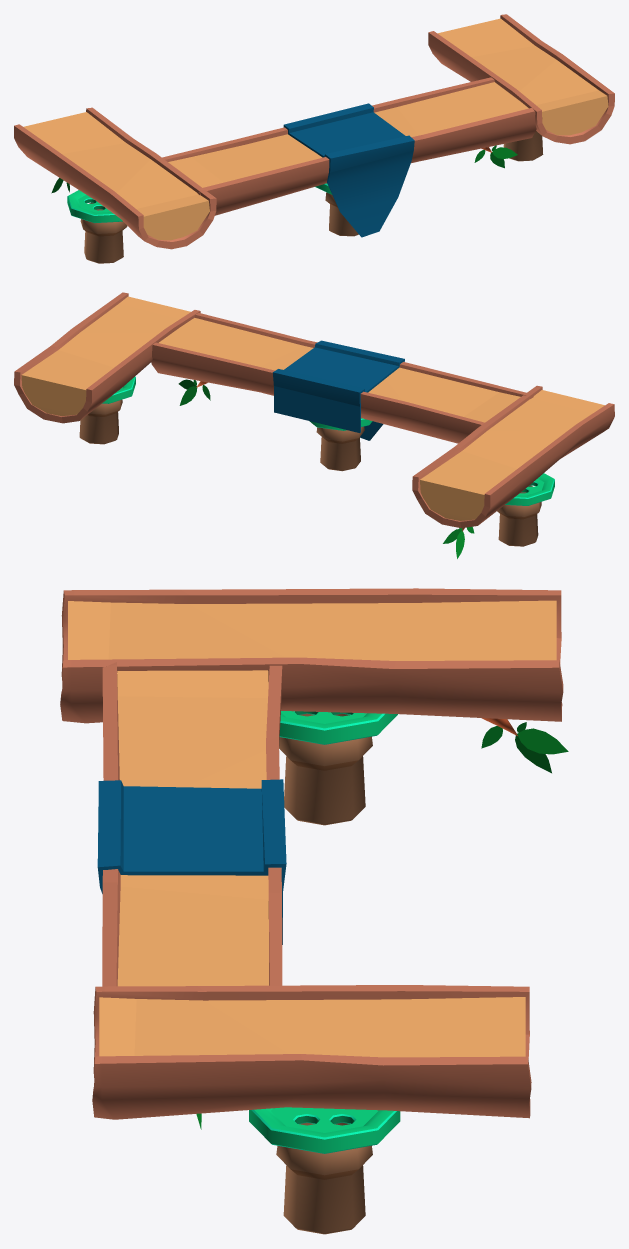
Rendered from Counter.fbx.
3 views of the same model, one above another, from view 1: azimuth 30°, elevation 25°; view 2: azimuth 150°, elevation 25°; view 3: azimuth 270°, elevation 25° (orthographic). The views are drawn at different scales.
Parts seen in each view (by area): view 1: Log, SideLog1, SideLog, Mat1, BarStool1, BarStool, BarStool2, Branch; view 2: Log, SideLog1, SideLog, Mat1, BarStool1, BarStool, BarStool2, Branch; view 3: SideLog, SideLog1, Log, Mat1, BarStool2, BarStool1, Branch1.
Part boxes in pixels (x1,y1,x2,y2): Log: (162, 77, 536, 215); SideLog1: (14, 107, 216, 249); SideLog: (428, 14, 614, 144); Mat1: (283, 103, 414, 237); BarStool1: (67, 190, 127, 263); BarStool: (315, 183, 358, 236); BarStool2: (503, 131, 543, 161); Branch: (474, 145, 517, 168); Log: (151, 313, 533, 443); SideLog1: (412, 385, 614, 528); SideLog: (14, 292, 200, 423); Mat1: (272, 340, 404, 440); BarStool1: (497, 473, 554, 546); BarStool: (309, 418, 372, 471); BarStool2: (79, 376, 135, 444); Branch: (178, 379, 210, 405); SideLog: (92, 985, 531, 1119); SideLog1: (60, 588, 563, 723); Log: (102, 662, 282, 986); Mat1: (97, 779, 286, 944); BarStool2: (249, 1107, 400, 1234); BarStool1: (279, 711, 397, 825); Branch1: (481, 718, 568, 773).
Bounding box in the file's own units: 336 × 64.37 × 152.
